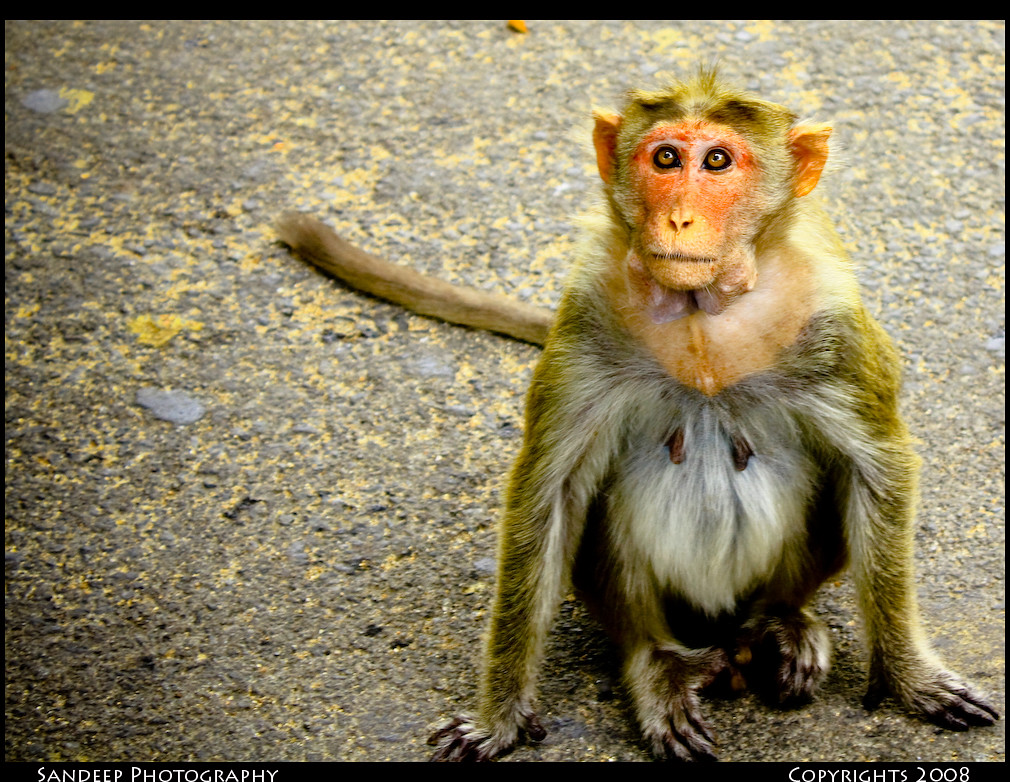monkey: (254, 83, 1010, 757)
